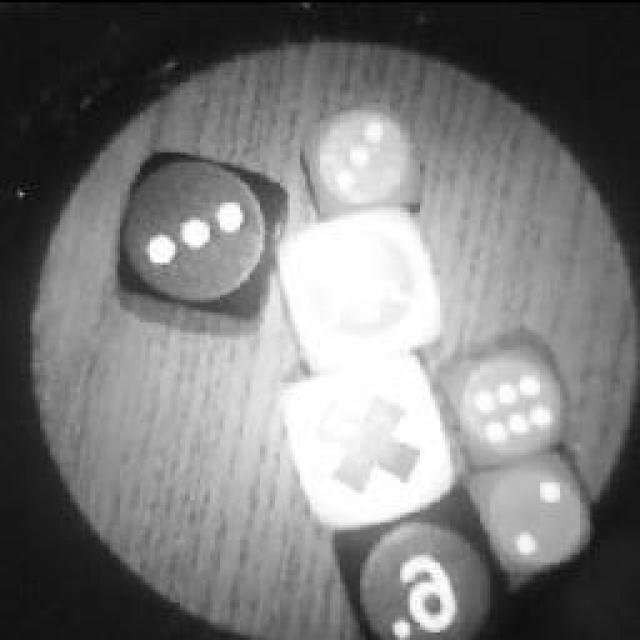dice_2: (462, 450, 602, 588)
dice_3: (108, 140, 292, 332), (295, 98, 433, 222)
dice_6: (432, 328, 580, 462)
